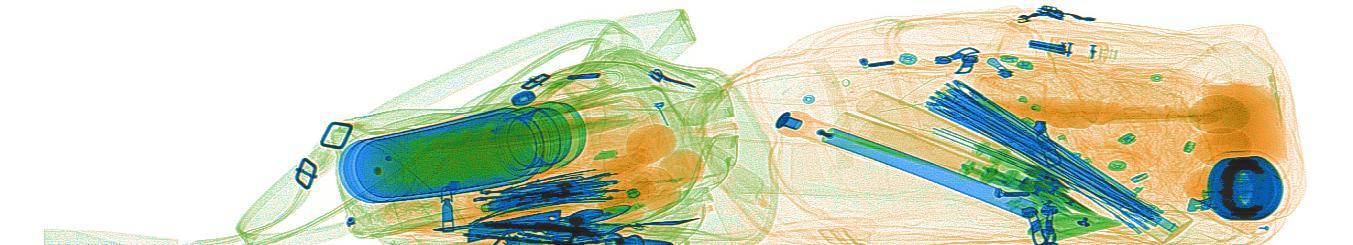knife: (465, 207, 563, 244)
